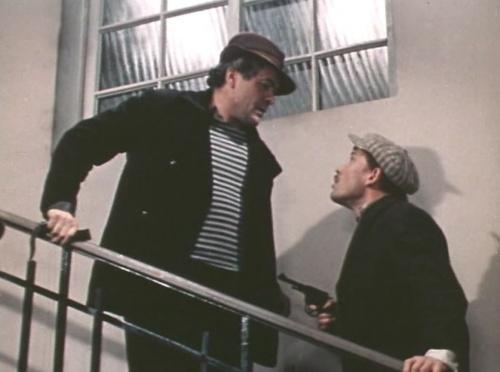Gun: (278, 273, 333, 319)
